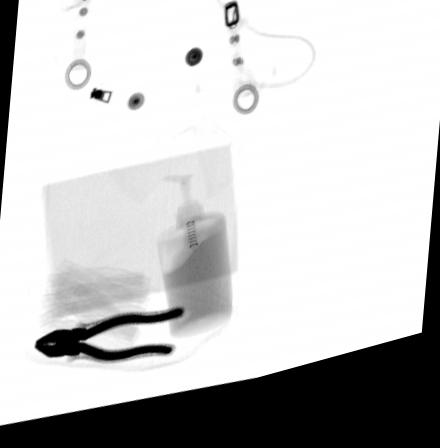Pliers: (32, 315, 185, 370)
